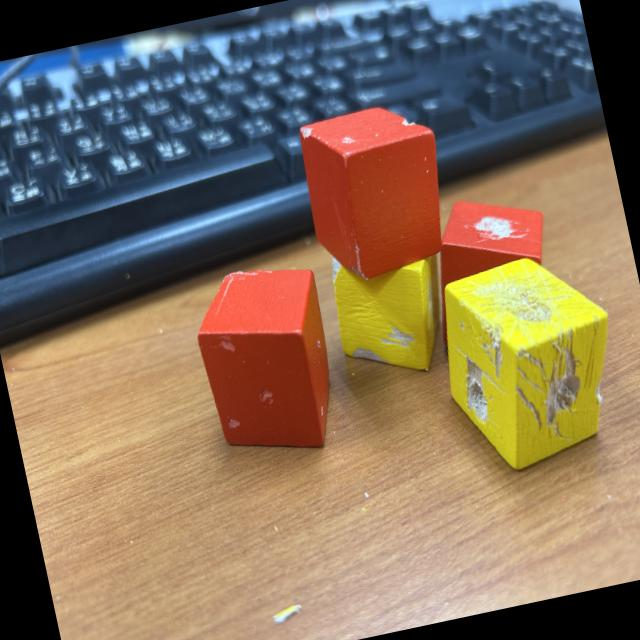broken: (426, 242, 636, 480), (186, 256, 349, 468), (292, 95, 461, 288), (414, 182, 566, 354), (320, 216, 462, 388)
